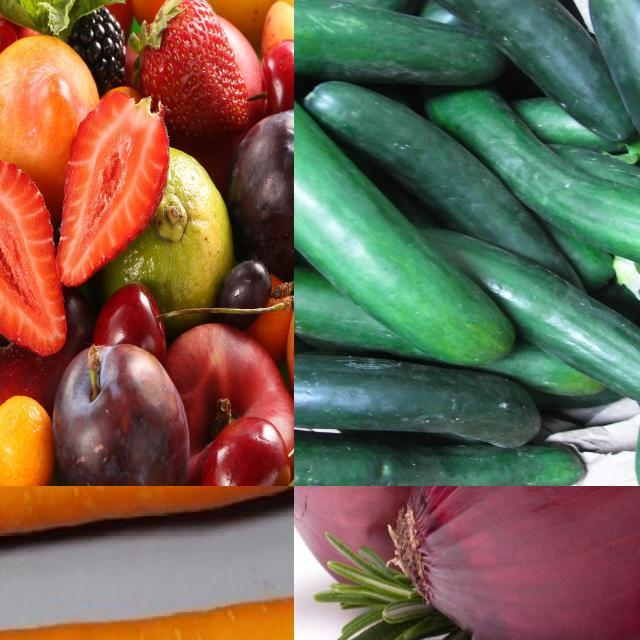carrot: (1, 487, 295, 555), (1, 574, 295, 640)
cucumber: (295, 69, 512, 366), (298, 83, 590, 289), (336, 1, 640, 148), (410, 219, 640, 409), (422, 87, 640, 277), (295, 359, 546, 448), (295, 423, 587, 487), (295, 1, 512, 87), (587, 1, 640, 223)
onion: (401, 487, 640, 640), (295, 487, 504, 620)
